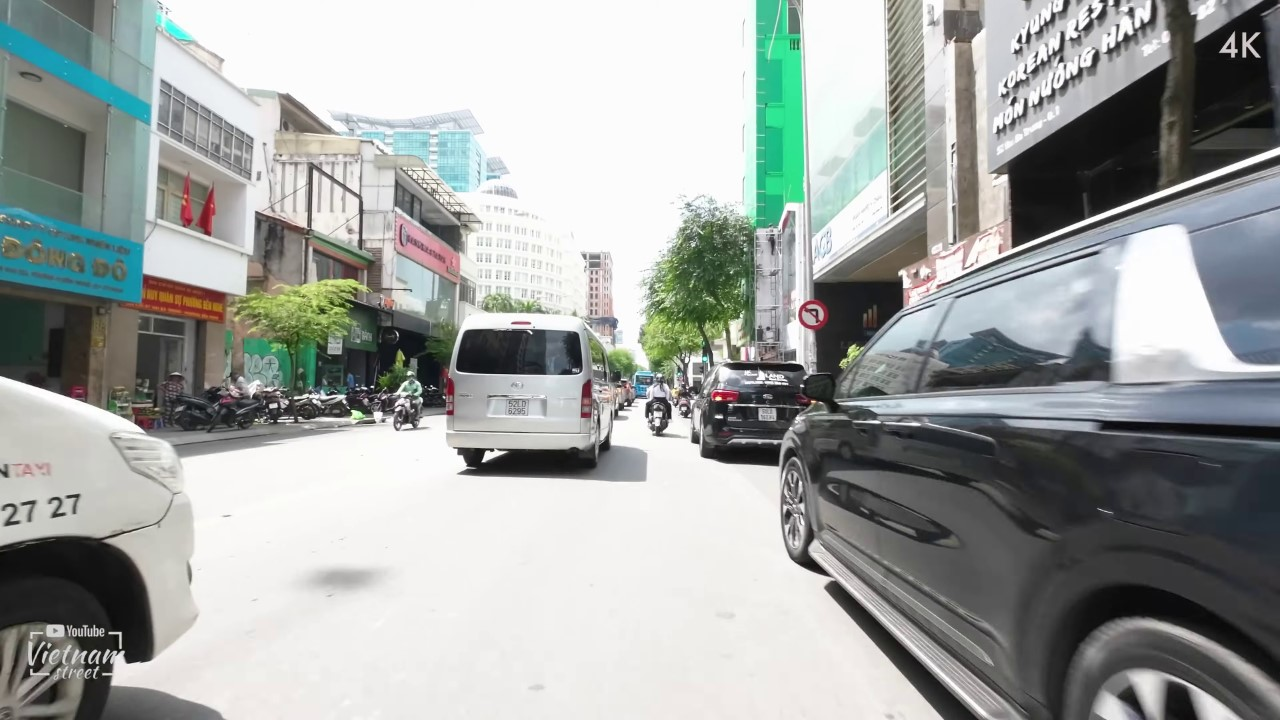cam_re_trai: (797, 297, 828, 332)
